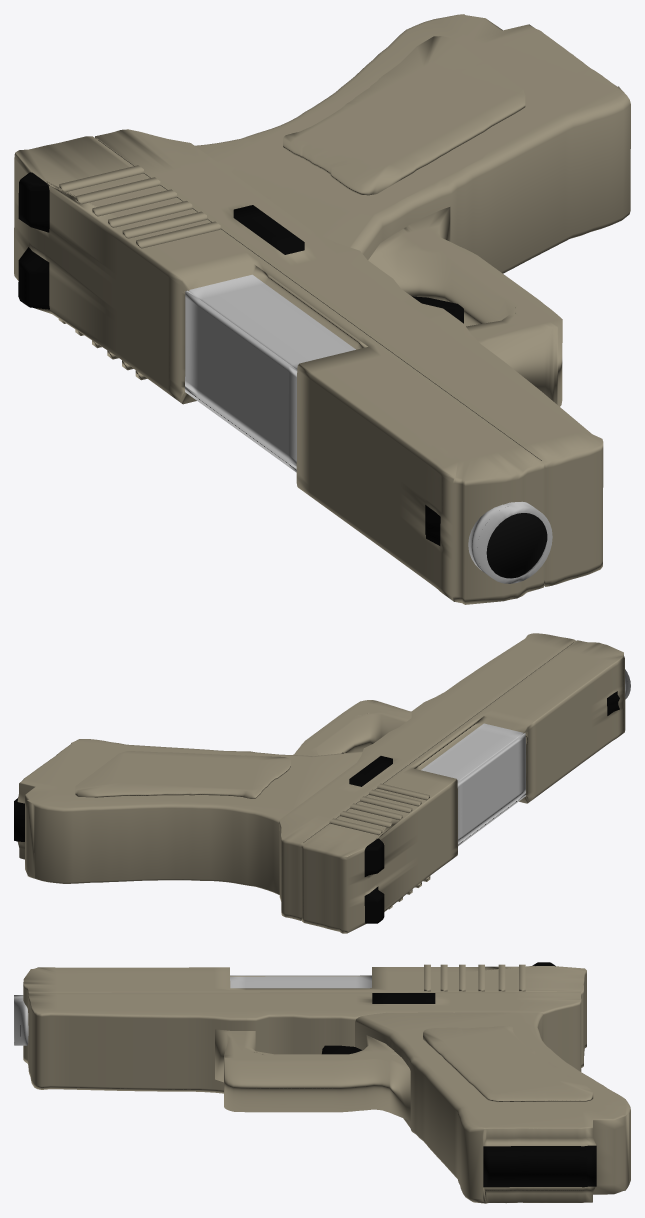
The model's file is glock-19.glb.
The picture shows the model from 3 angles, top to bottom: view 1: azimuth 30°, elevation 25°; view 2: azimuth 150°, elevation 25°; view 3: azimuth 270°, elevation 25°; orthographic projection. The views are drawn at different scales.
Parts seen in each view (by area): view 1: Cube.007; view 2: Cube.007; view 3: Cube.007.
Part boxes in pixels (x1,y1,x2,y2): Cube.007: [14, 14, 630, 604]; Cube.007: [14, 633, 630, 933]; Cube.007: [14, 962, 630, 1203].
Size of what is drawn, in the model's own units: 3.23 by 0.7979 by 5.05.
